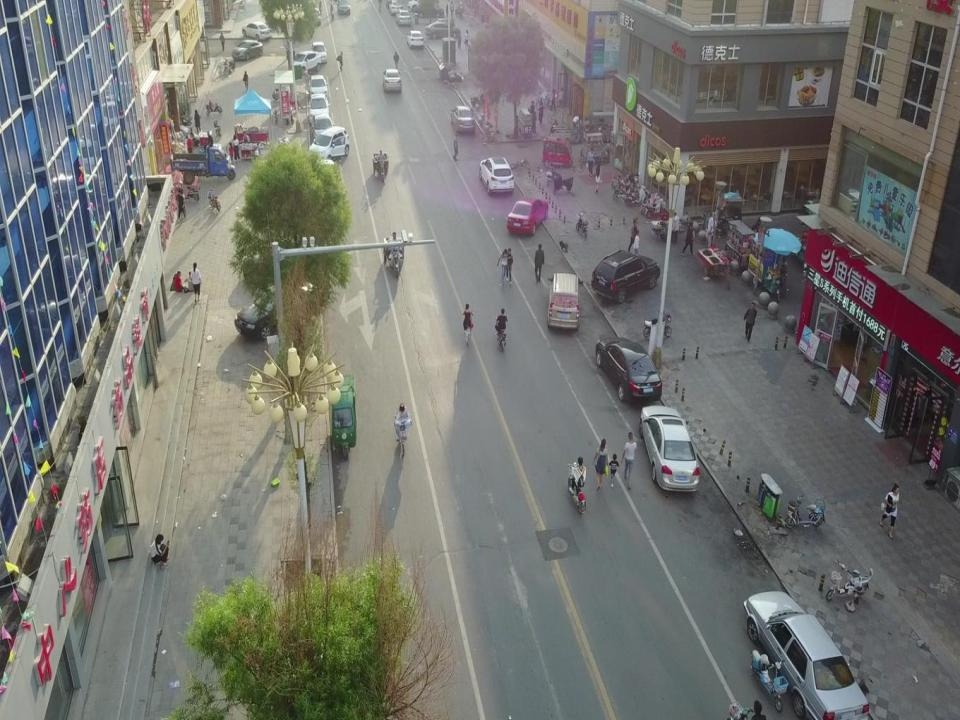car: (234, 276, 320, 342), (639, 407, 699, 492), (596, 340, 663, 404), (592, 252, 660, 302), (547, 272, 580, 334), (508, 198, 549, 235), (308, 129, 348, 166), (480, 156, 514, 195), (310, 113, 334, 148), (289, 51, 322, 76), (308, 93, 330, 129), (308, 74, 328, 106), (451, 105, 477, 129), (426, 20, 460, 38), (230, 42, 263, 60), (240, 22, 272, 40), (382, 68, 402, 92), (312, 42, 328, 68), (406, 30, 424, 49), (407, 0, 433, 13), (395, 12, 411, 28), (338, 0, 352, 16), (388, 1, 403, 15)
truck: (744, 590, 867, 720), (170, 148, 235, 187)
